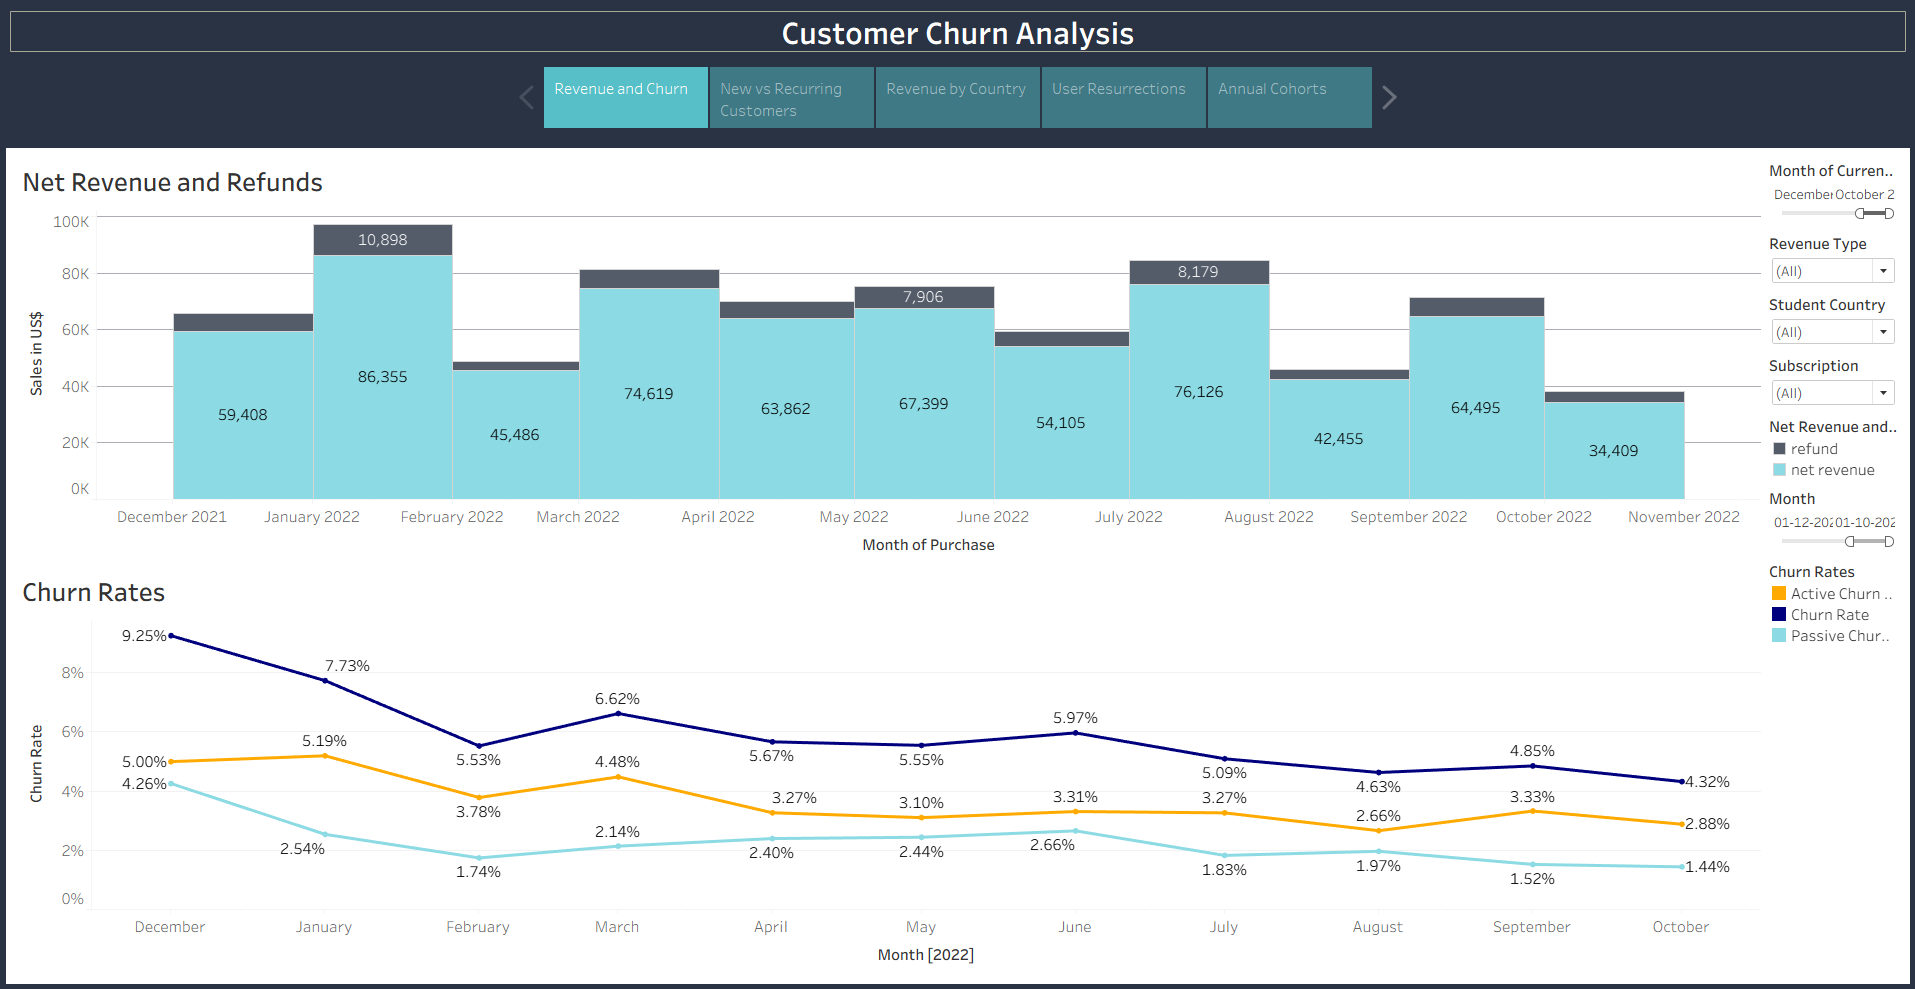

The page's visual inventory and layout, read from the dashboard file:
{"tool":"tableau","page":{"name":"Revenue and Churn","canvas":[1000,1000],"units":"permille","ordinal":2},"visuals":[{"type":"worksheet","title":"Revenue vs Refunds","mark":"Bar","rows":["price"],"cols":["current_purchase_date"],"box":[4.8,10,907.7,490]},{"type":"filter","title":"Revenue vs Refunds","param":"[federated.1yqivkp0ywk6671goxi5q0938omz].[tmn:current_purchase_date:qk]","box":[912.5,10,82.7,91.1]},{"type":"filter","title":"Revenue vs Refunds","param":"[federated.1yqivkp0ywk6671goxi5q0938omz].[none:revenue_type:nk]","box":[912.5,101.1,82.7,76.2]},{"type":"filter","title":"Revenue vs Refunds","param":"[federated.1yqivkp0ywk6671goxi5q0938omz].[none:student_country:nk]","box":[912.5,177.3,82.7,76.2]},{"type":"filter","title":"Revenue vs Refunds","param":"[federated.1yqivkp0ywk6671goxi5q0938omz].[none:subscription:nk]","box":[912.5,253.5,82.7,76.2]},{"type":"legend","title":"Revenue vs Refunds","param":"[federated.1yqivkp0ywk6671goxi5q0938omz].[none:refunds:nk]","box":[912.5,329.6,82.7,89.9]},{"type":"filter","title":"Churn Rates","param":"[federated.1iwqpiw0wji23z14xxx380t8efto].[none:month:qk]","box":[912.5,419.5,82.7,91.1]},{"type":"worksheet","title":"Churn Rates","mark":"Automatic","cols":["month"],"box":[4.8,500,907.7,490]},{"type":"legend","title":"Churn Rates","param":"[federated.1iwqpiw0wji23z14xxx380t8efto].[:Measure Names]","box":[912.5,510.6,82.7,116.1]}]}

Visuals, with their boxes on the dashboard's canvas, which has no fixed pixel size, in thousandths of its width and height (x1, y1, x2, y2). These are canvas units, not pixel positions in the 1915x989 screenshot, which may show the page scaled, cropped or inside an application window:
"Revenue vs Refunds" worksheet (Bar marks): x1=5, y1=10, x2=912, y2=500
"Revenue vs Refunds" filter: x1=912, y1=10, x2=995, y2=101
"Revenue vs Refunds" filter: x1=912, y1=101, x2=995, y2=177
"Revenue vs Refunds" filter: x1=912, y1=177, x2=995, y2=254
"Revenue vs Refunds" filter: x1=912, y1=254, x2=995, y2=330
"Revenue vs Refunds" legend: x1=912, y1=330, x2=995, y2=420
"Churn Rates" filter: x1=912, y1=420, x2=995, y2=511
"Churn Rates" worksheet: x1=5, y1=500, x2=912, y2=990
"Churn Rates" legend: x1=912, y1=511, x2=995, y2=627
